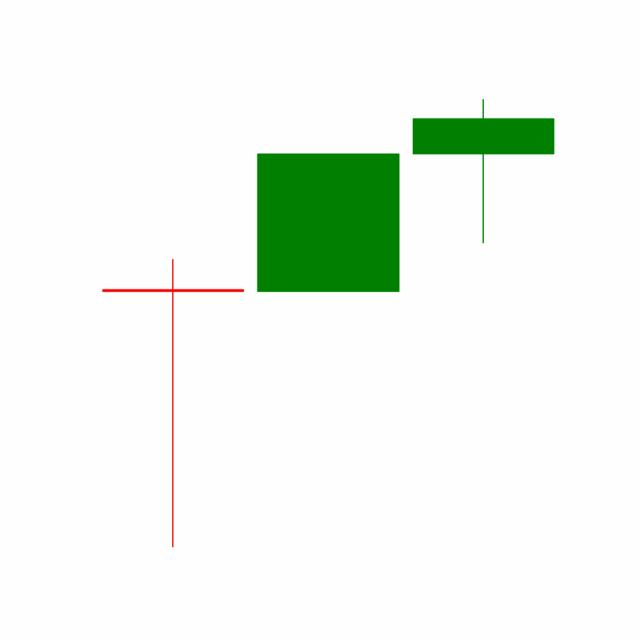Marubozu: (249, 151, 406, 293)
